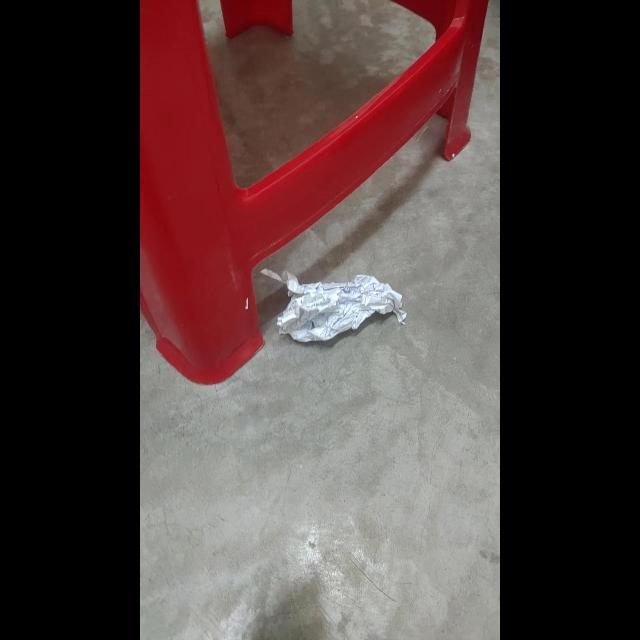papel: (266, 264, 416, 346)
